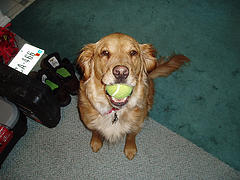tennis ball: (102, 77, 135, 103)
